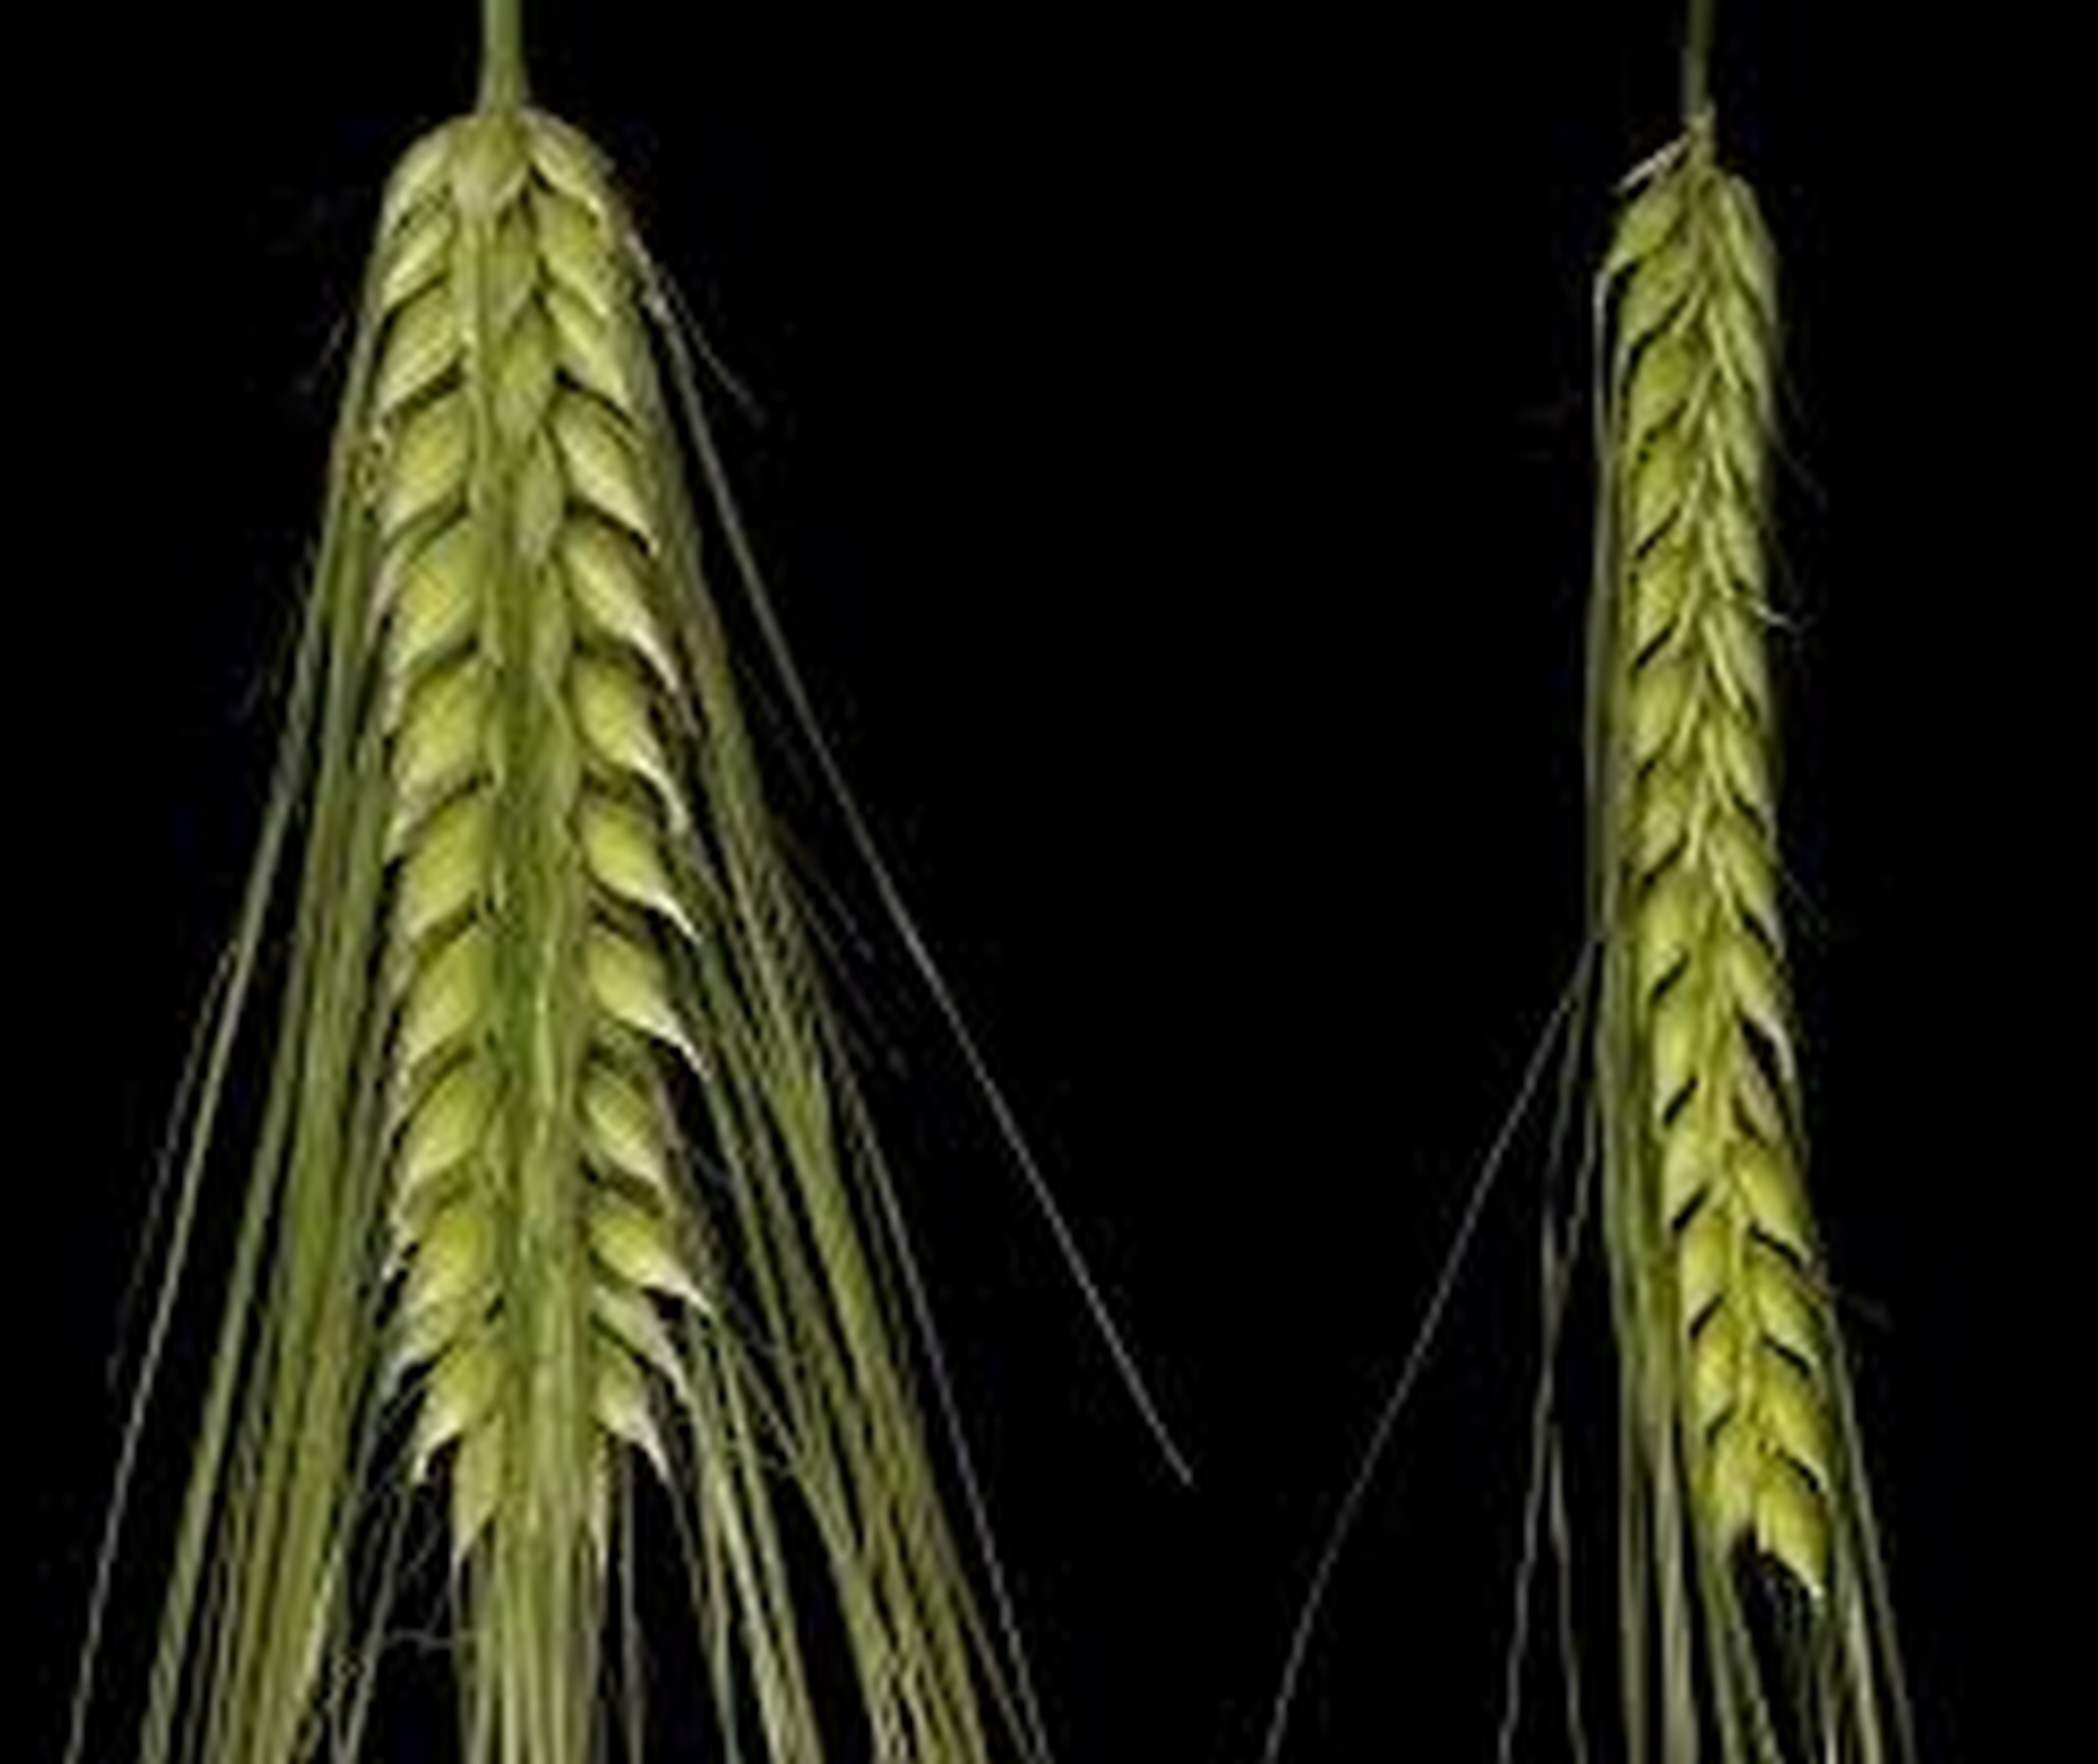Healthy Wheat: (297, 110, 826, 1521), (1543, 136, 1930, 1654)
